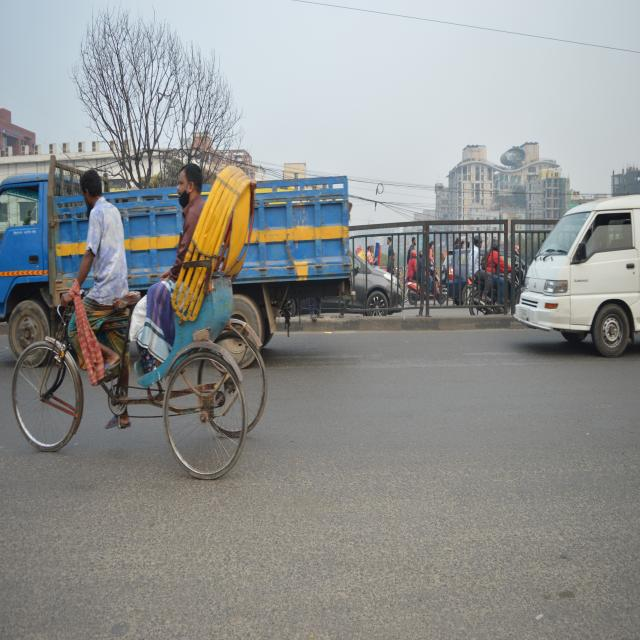car: (349, 250, 402, 324)
microbus: (514, 195, 640, 356)
motorbike: (462, 254, 525, 330), (398, 254, 446, 310)
truck: (0, 155, 352, 353)
